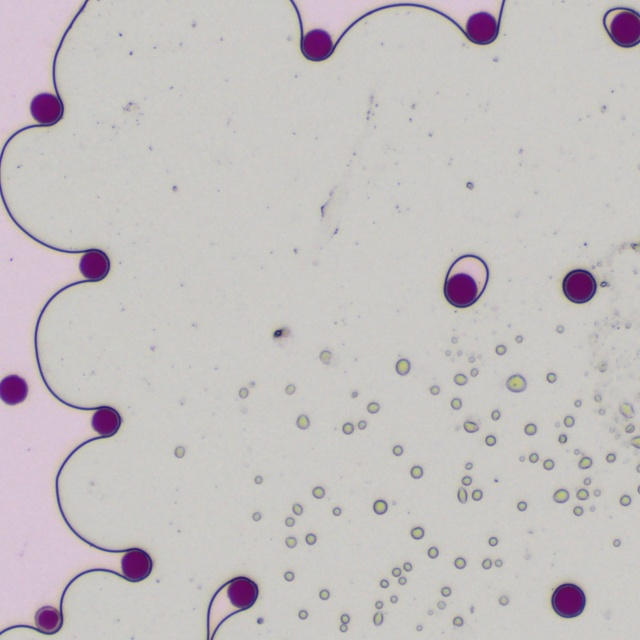viable: (208, 577, 257, 639), (445, 255, 488, 307), (604, 8, 639, 47), (552, 584, 585, 617), (563, 270, 596, 303), (467, 12, 496, 43), (122, 551, 151, 581), (31, 94, 60, 123), (228, 579, 257, 608), (303, 30, 331, 59), (80, 252, 109, 279), (1, 376, 27, 404), (92, 408, 119, 434), (35, 606, 59, 633)
